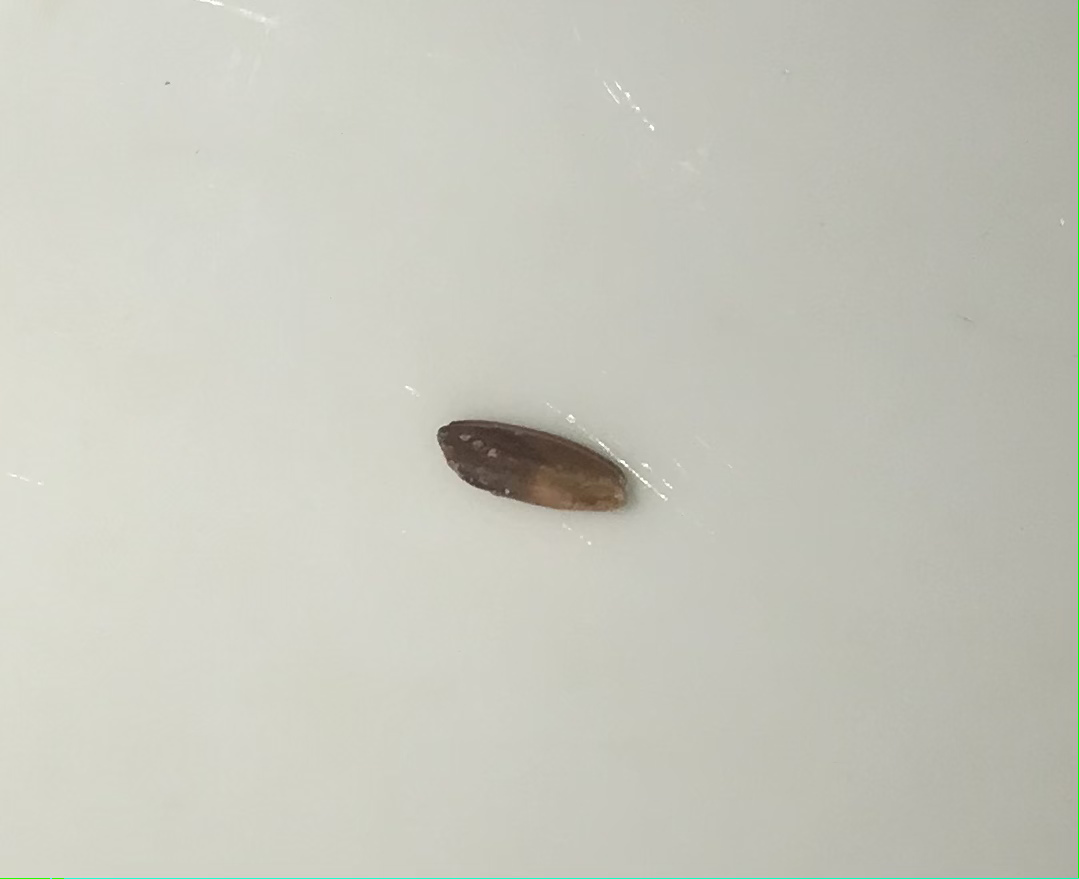Gao Lut Do: (422, 403, 652, 536)
